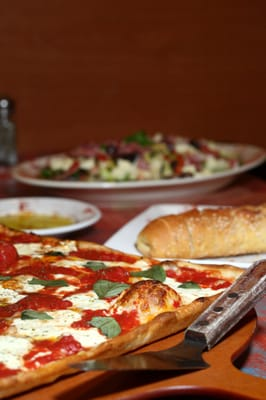sandwich: (183, 258, 266, 359)
